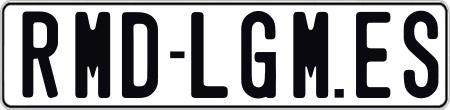D: (120, 10, 159, 102)
E: (356, 11, 396, 98)
G: (240, 10, 280, 102)
L: (191, 9, 232, 97)
M: (73, 9, 111, 95), (293, 10, 330, 96)
R: (22, 8, 62, 100)
S: (401, 8, 434, 98)
